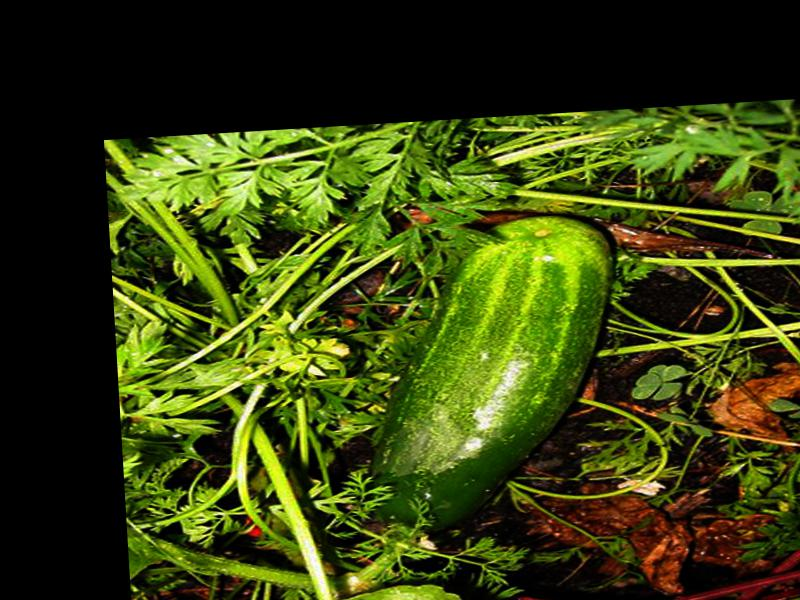Cucumber: (344, 216, 630, 536)
